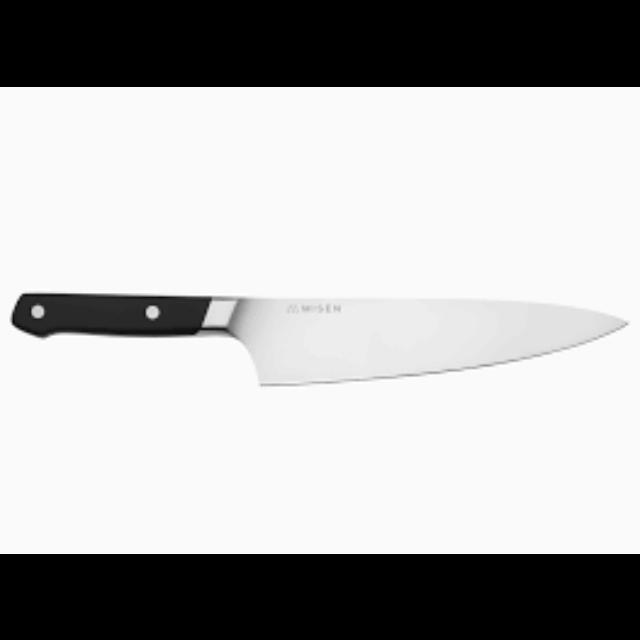knife: (10, 291, 628, 385)
